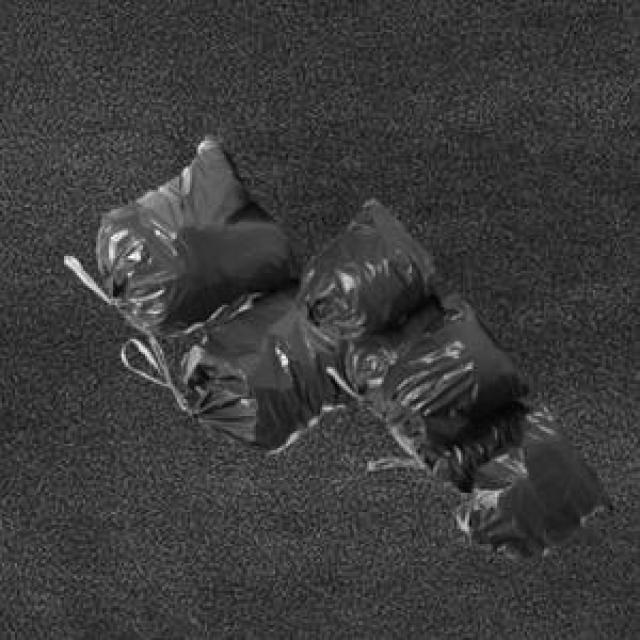miscellaneous trash: (292, 194, 614, 555), (62, 126, 358, 448)
